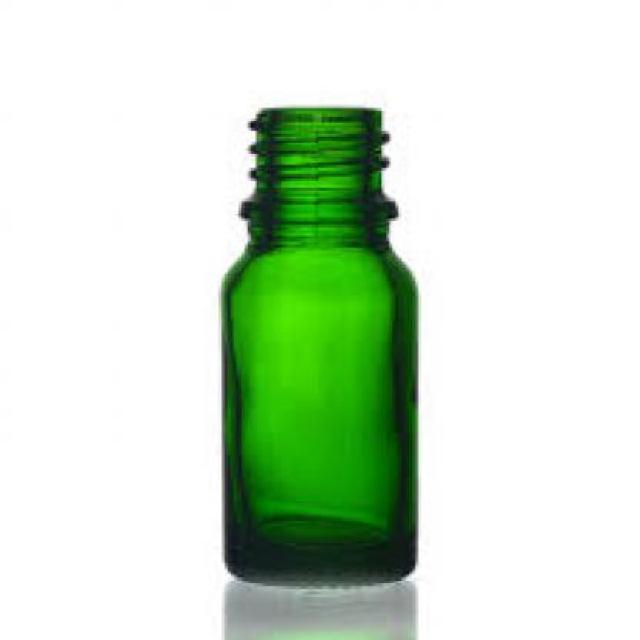kaca: (216, 105, 416, 583)
